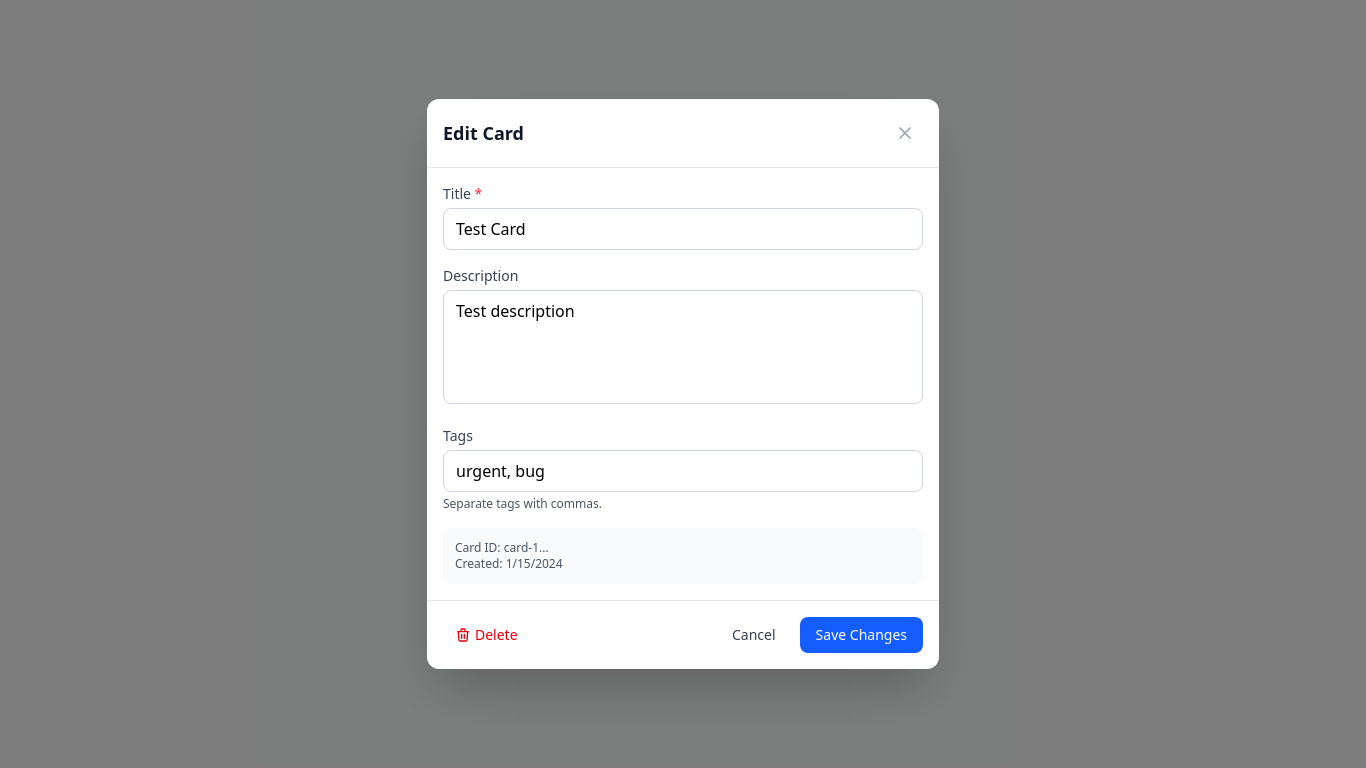
Scenario: CardDetailModal › Validation › should show error for title less than 2 characters
Replace the text in the field with test id "card-title-input" with "A" at (683, 229), box [443,208,923,250]
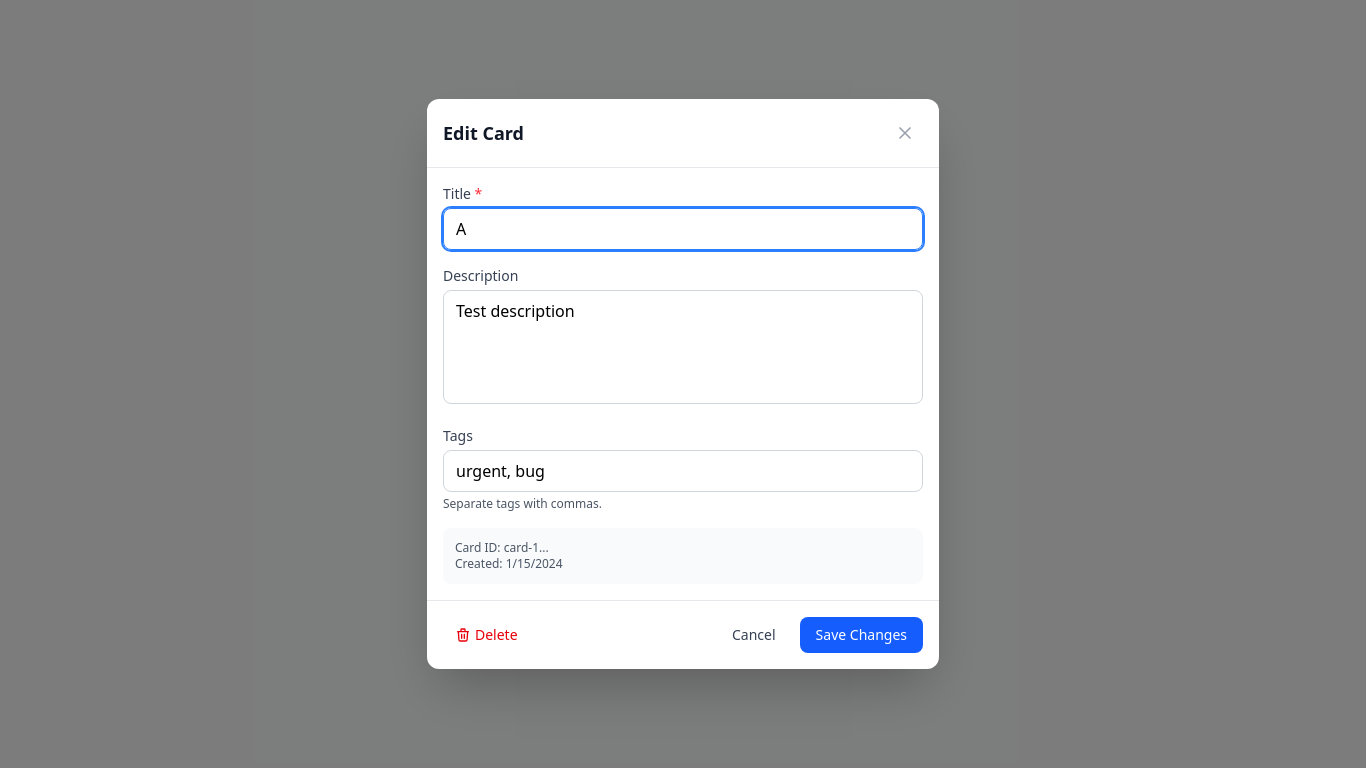
Click the button with test id "save-card-button" at (861, 635), box [800,617,923,653]
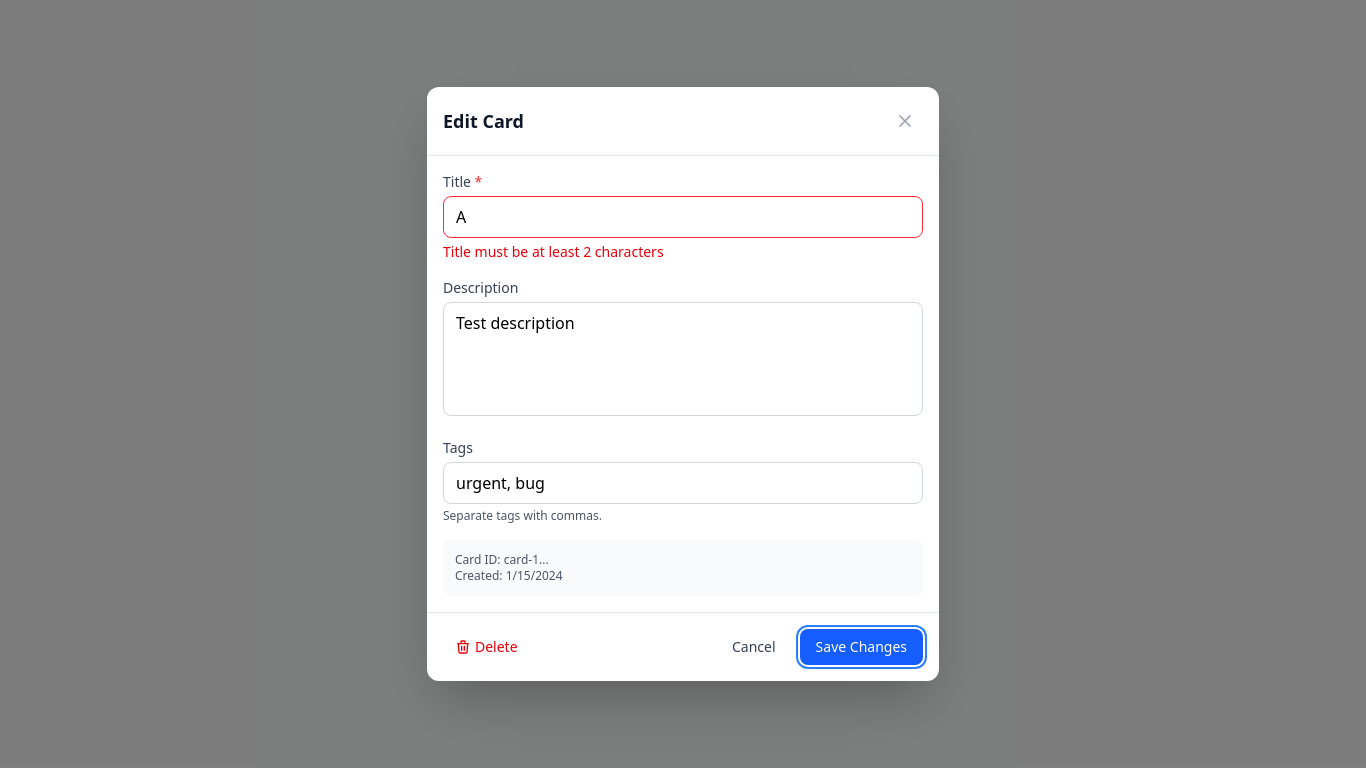
Result: the text "Title must be at least 2 characters" is shown at [443,242,664,261]
